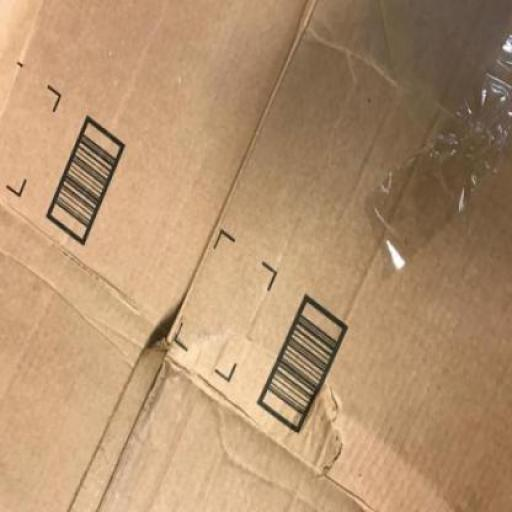cardboard: (0, 0, 511, 511), (67, 338, 374, 511)
